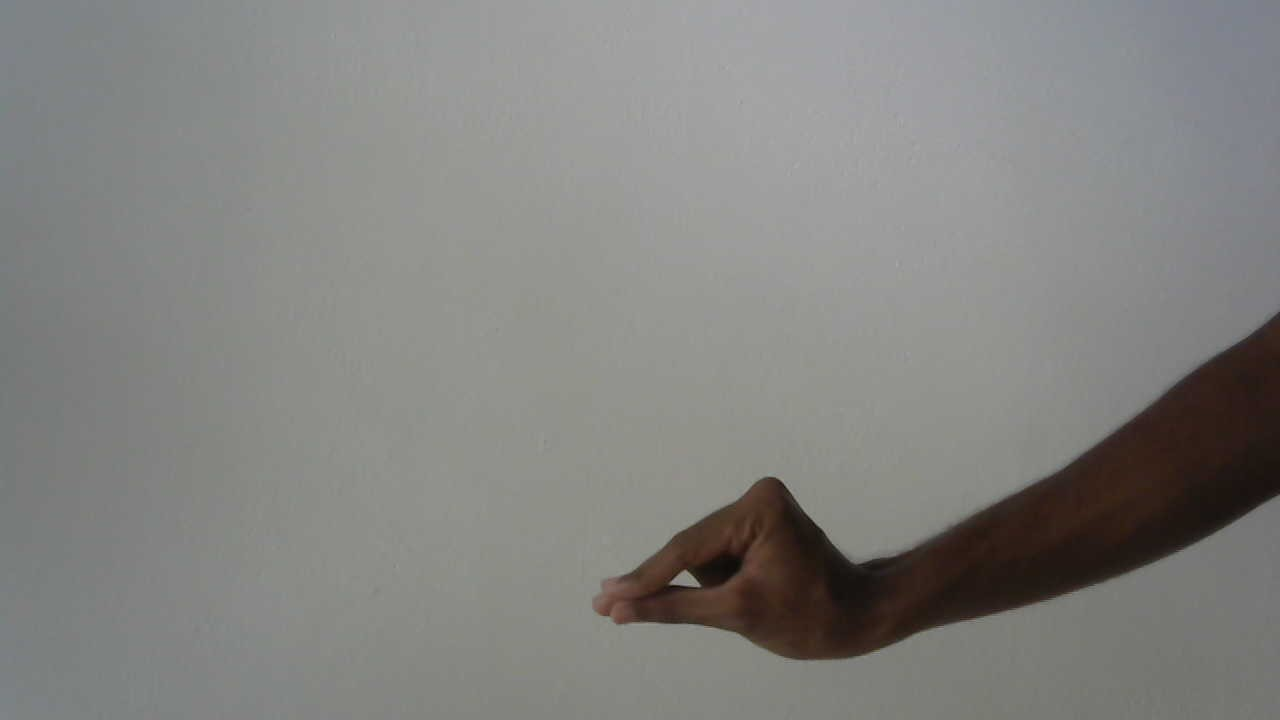no: (578, 463, 898, 677)
